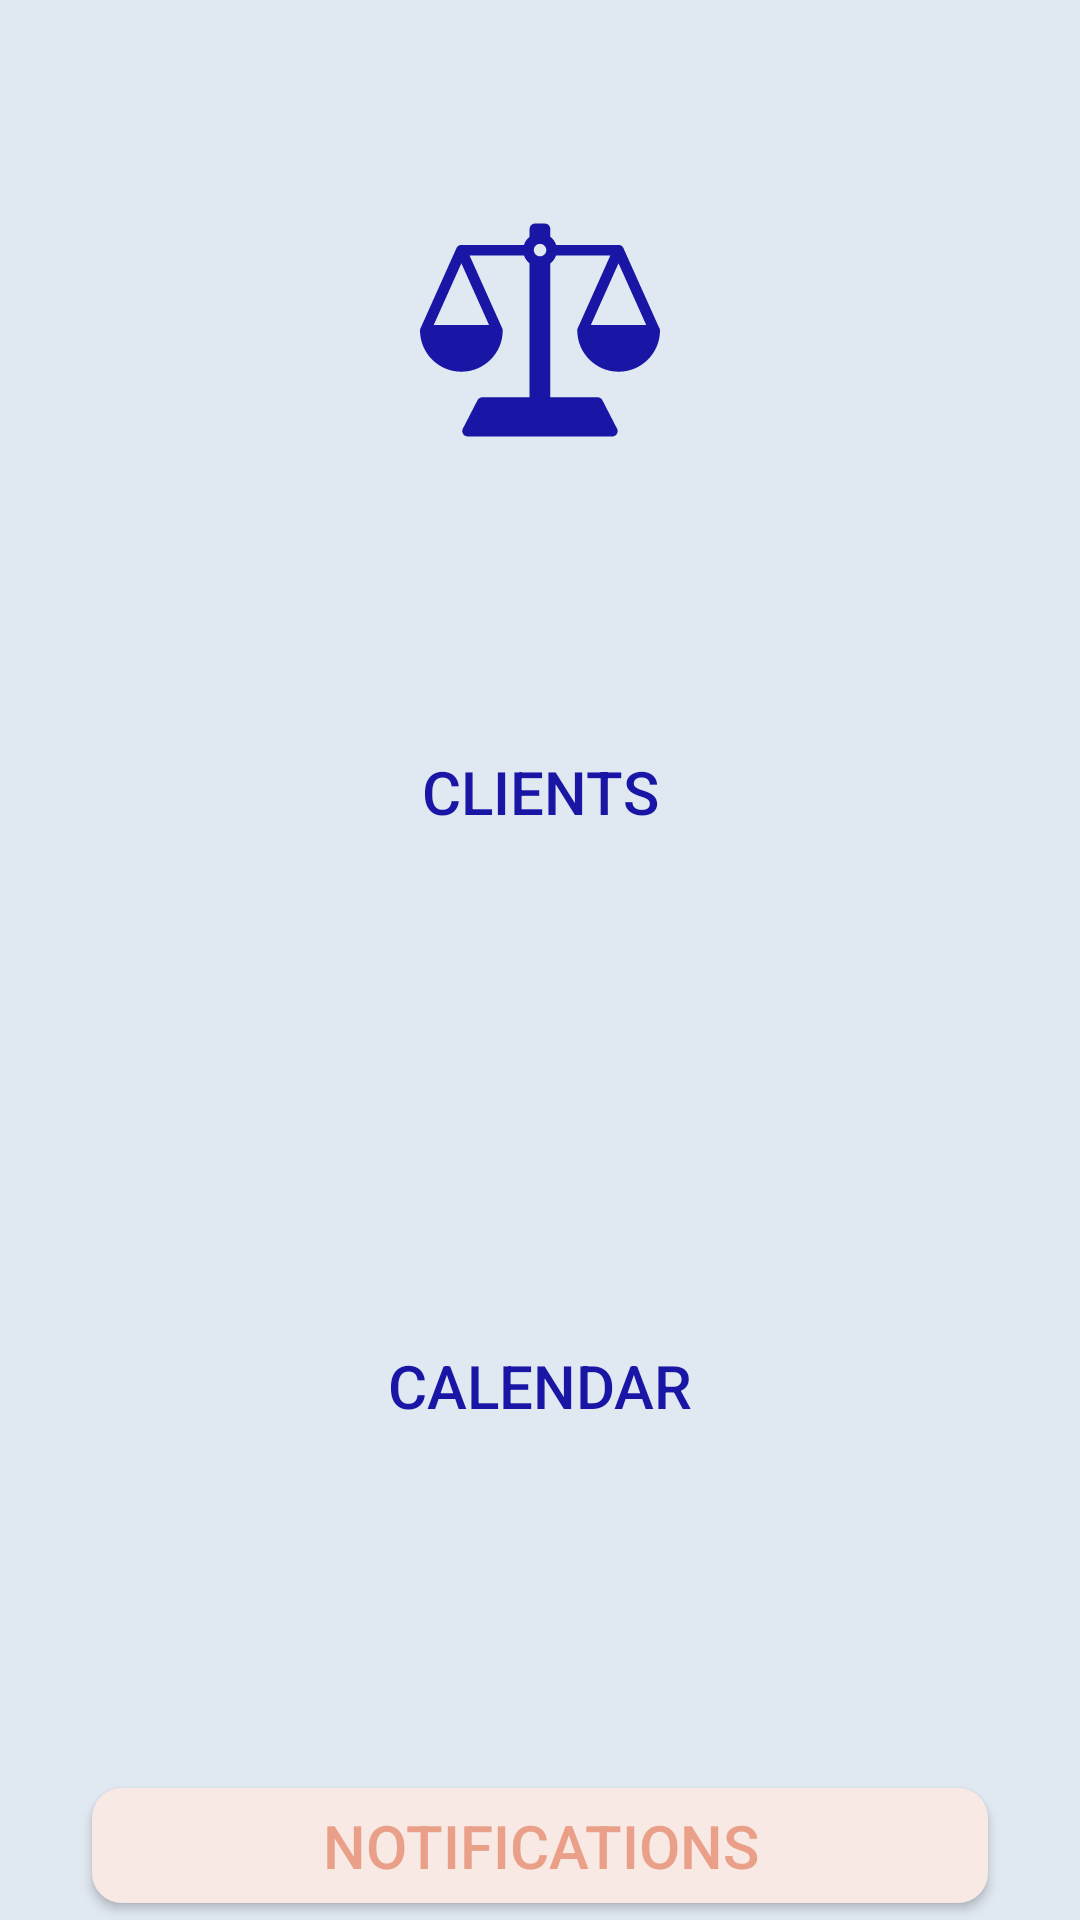

Icon bounding boxes for this 1080px×1920px phone screenshot, format (x1, y1, x2, y2):
balance: (420, 223, 660, 437)
